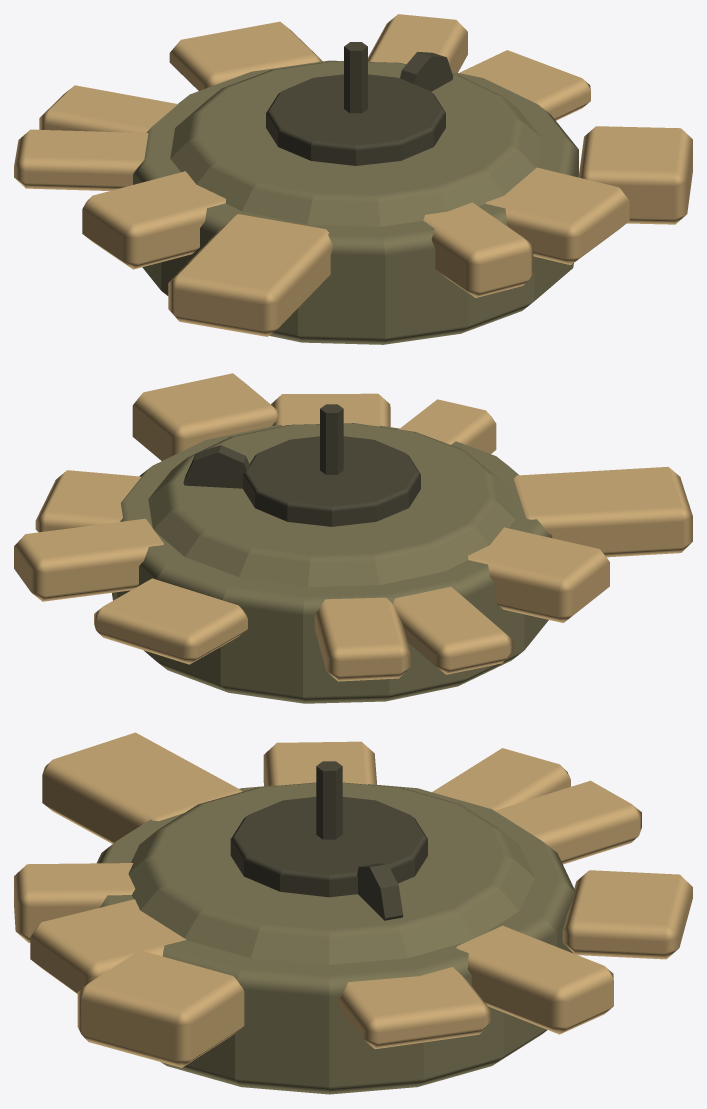
The model's file is Landmine.glb.
The picture shows the model from 3 angles, top to bottom: view 1: azimuth 30°, elevation 25°; view 2: azimuth 150°, elevation 25°; view 3: azimuth 270°, elevation 25°; orthographic projection. The views are drawn at different scales.
Visible parts, largest first — view 1: Landmine.001; view 2: Landmine.001; view 3: Landmine.001.
Part boxes in pixels (x1,y1,x2,y2): Landmine.001: (14, 14, 692, 344); Landmine.001: (14, 373, 692, 703); Landmine.001: (14, 732, 692, 1094).
Bounding box in the file's own units: 0.4158 × 0.155 × 0.4127.
